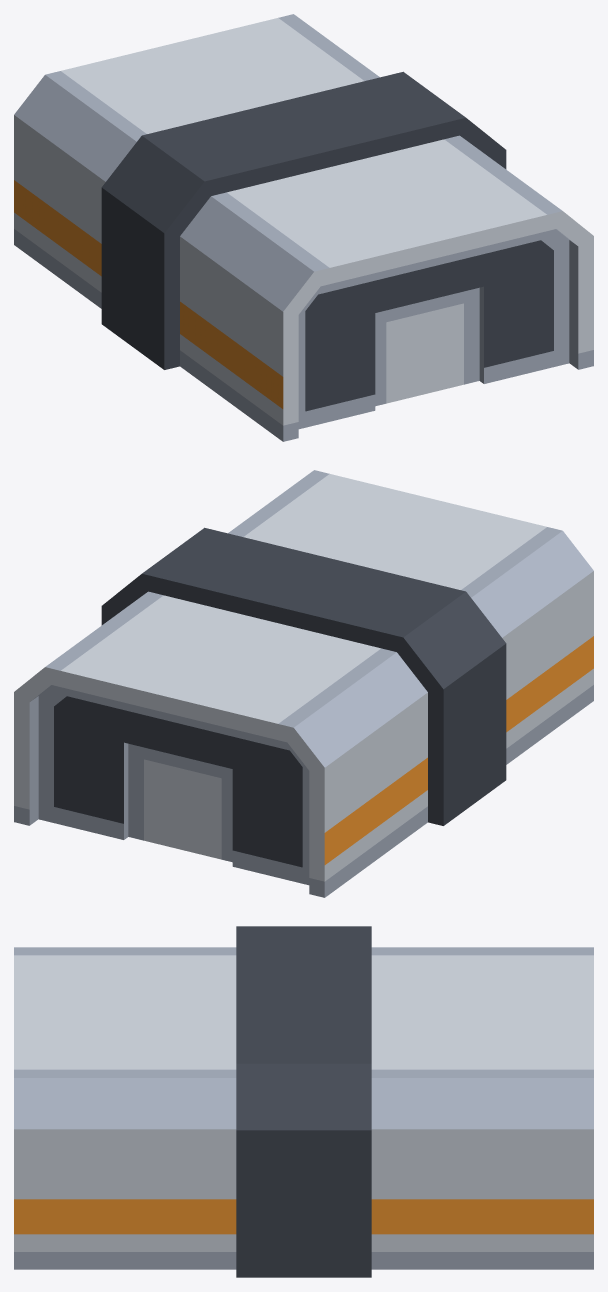
File: hangar_largeB.dae
3 views of the same model, one above another, from view 1: azimuth 30°, elevation 25°; view 2: azimuth 150°, elevation 25°; view 3: azimuth 270°, elevation 25° (orthographic). The views are drawn at different scales.
Visible parts, largest first — view 1: hangar_largeB, gate; view 2: hangar_largeB, gate; view 3: hangar_largeB.
Boxes of the visible parts, x1=… form: hangar_largeB: x1=14, y1=14, x2=593, y2=441; gate: x1=298, y1=229, x2=569, y2=429; hangar_largeB: x1=14, y1=470, x2=593, y2=897; gate: x1=38, y1=685, x2=309, y2=885; hangar_largeB: x1=14, y1=926, x2=593, y2=1277.
Bounding box in the file's own units: 2.2 × 1.1 × 3.
